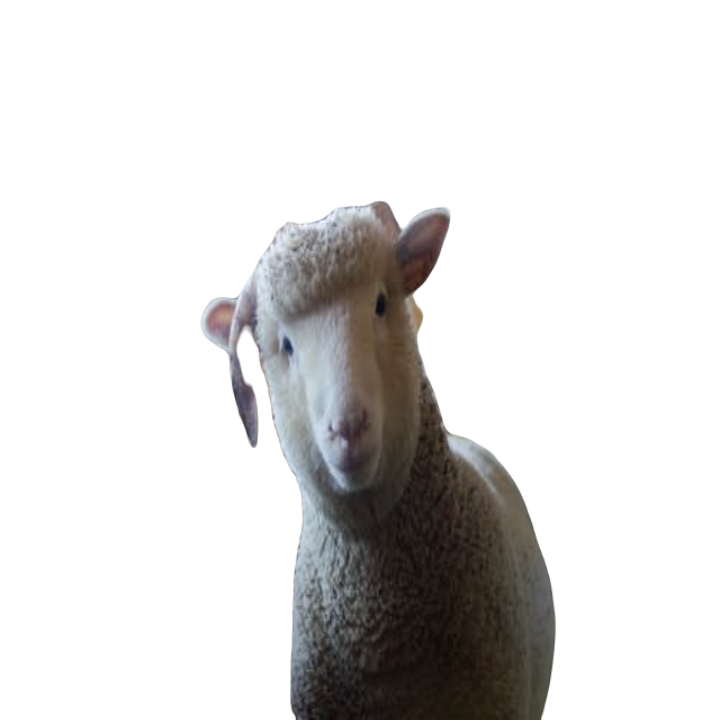Sheep: (197, 199, 565, 719)
